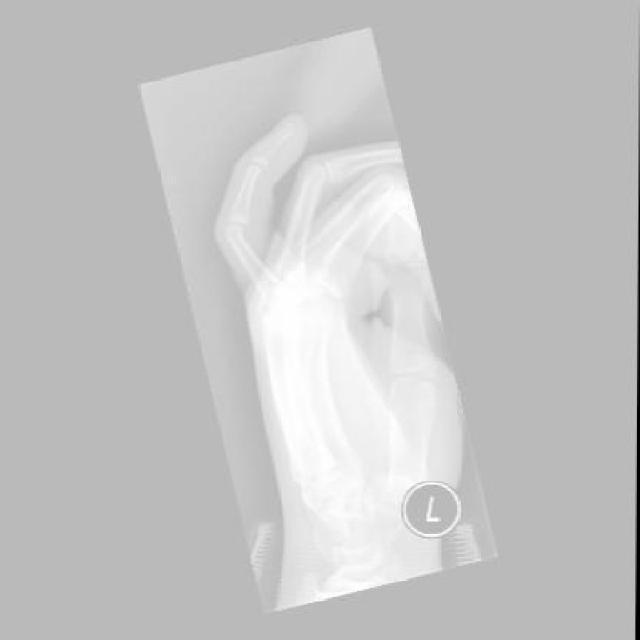Fracture: (251, 146, 271, 163)
